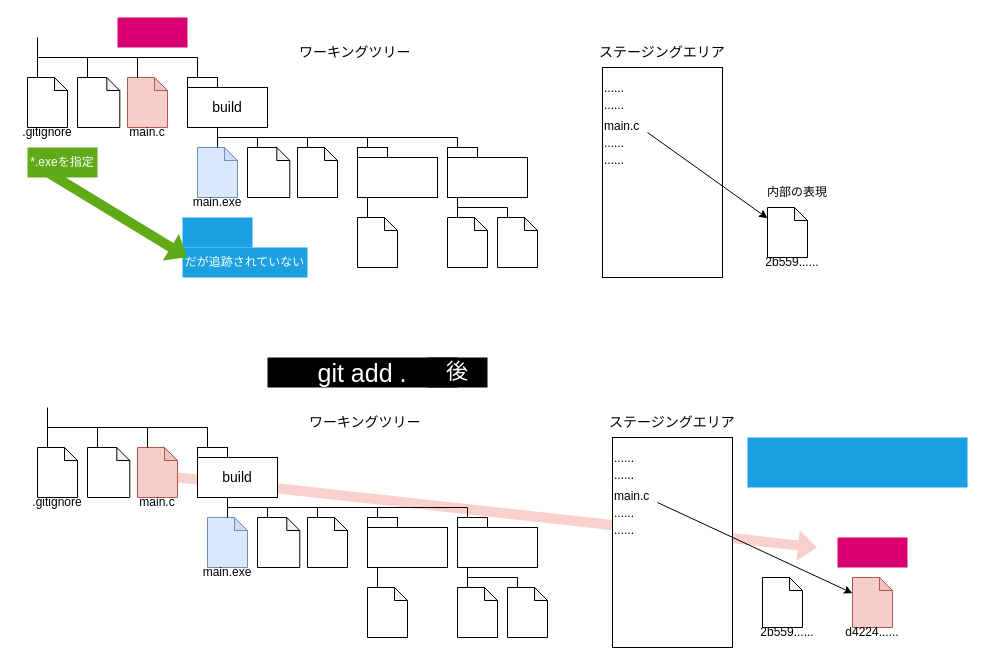
The diagram is 984 pixels wide and 665 high, and some of its shapes have lost their labels. Here are the shapes that lost their labels. From the top down, the box of each, then its label:
(117, 17, 187, 47): 編集
(182, 217, 252, 247): 変更
(747, 437, 967, 487): .gitignore で指定されたファイル -> 変更されない
(837, 537, 907, 567): 編集の反映
